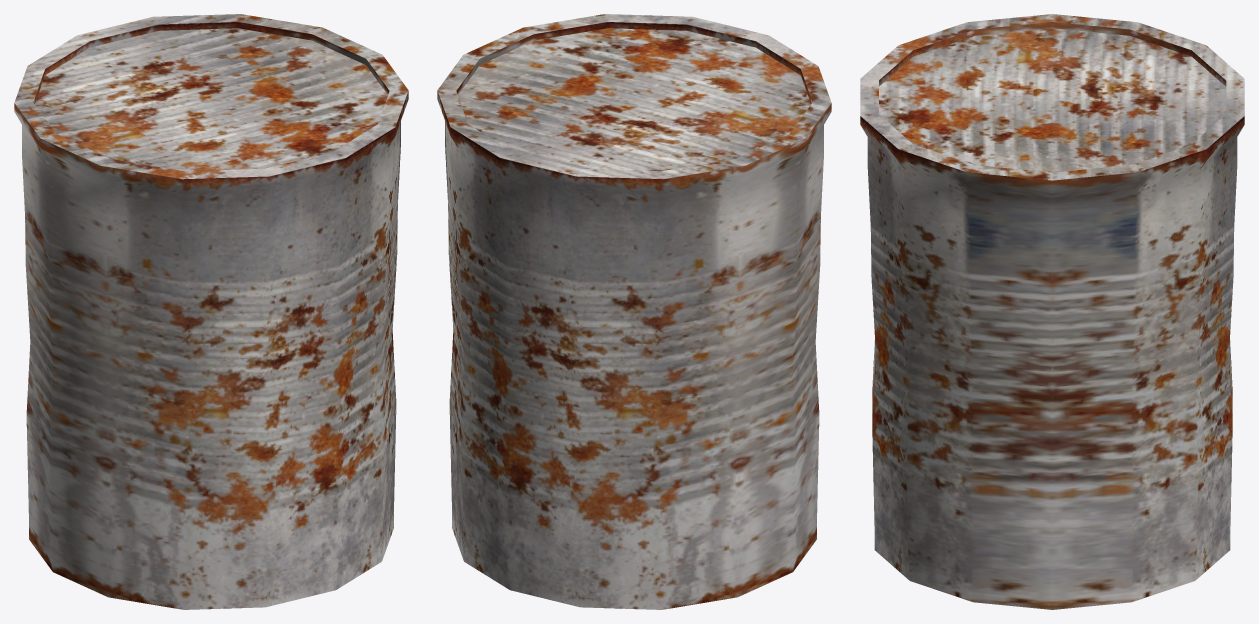
File: old_can.obj
The picture shows the model from 3 angles, left to right: view 1: azimuth 30°, elevation 25°; view 2: azimuth 150°, elevation 25°; view 3: azimuth 270°, elevation 25°; orthographic projection.
Parts seen in each view (by area): view 1: def_surf_mat; view 2: def_surf_mat; view 3: def_surf_mat.
Boxes of the visible parts, x1,y1,x2,y2 form: def_surf_mat: [14, 14, 408, 609]; def_surf_mat: [437, 14, 831, 609]; def_surf_mat: [860, 14, 1244, 609].
Bounding box in the file's own units: 4.84 × 5.9 × 4.72.
